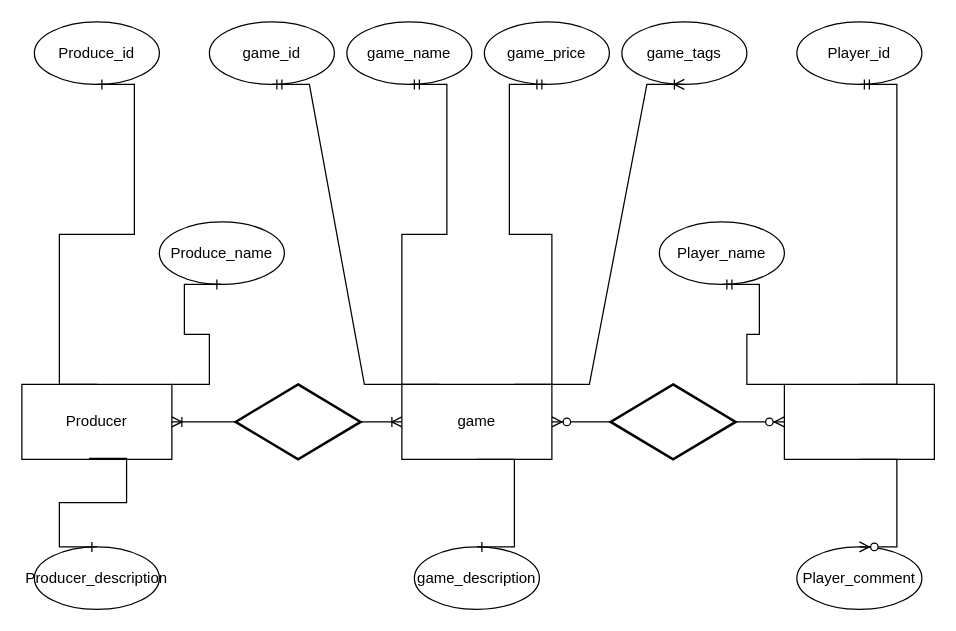
This 956x631 diagram has some shape labels left out. The centre of each missing label's shape, as x and y in pixels:
play: (x=672, y=421)
player: (x=858, y=421)
Produce: (x=297, y=421)
